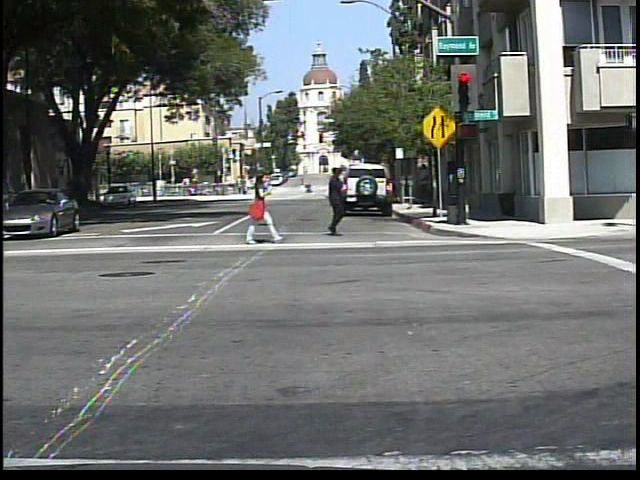person: (240, 169, 281, 245), (316, 165, 356, 239), (305, 180, 315, 198)
